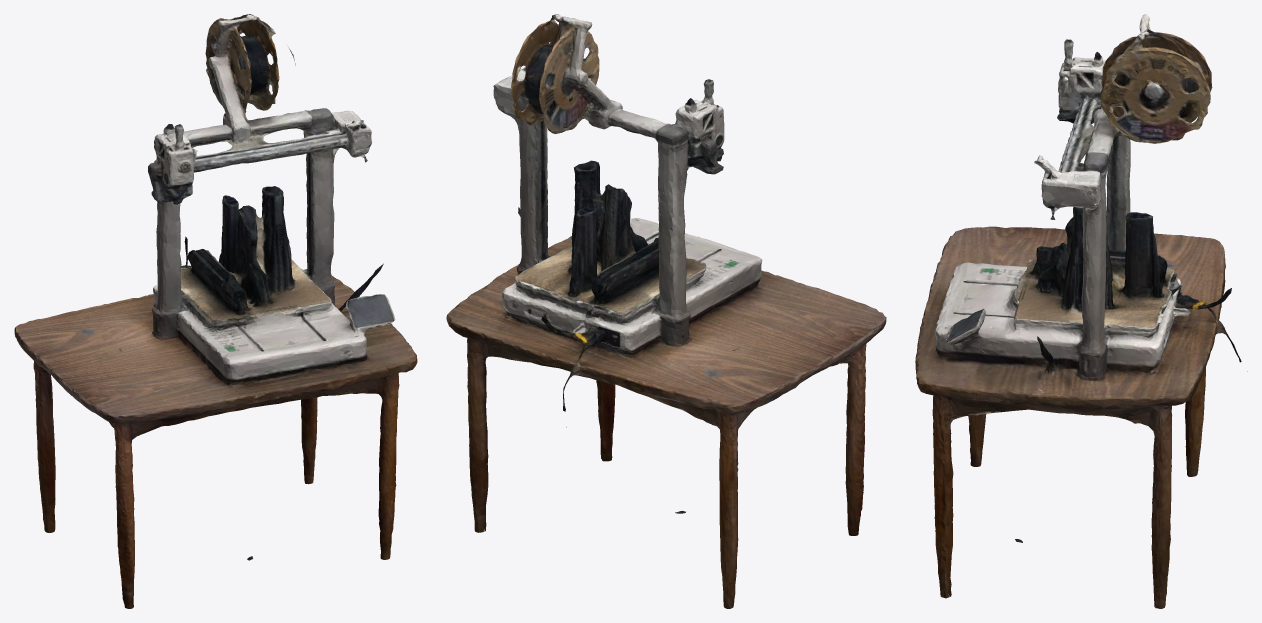
Rendered from Good print table-2048.glb.
3 renders of one model, left to right at view 1: azimuth 30°, elevation 25°; view 2: azimuth 150°, elevation 25°; view 3: azimuth 270°, elevation 25°, orthographic. The views are drawn at different scales.
Size of the model in its own units: 0.728 by 1.07 by 0.5974.
1 material, 1 textured.
